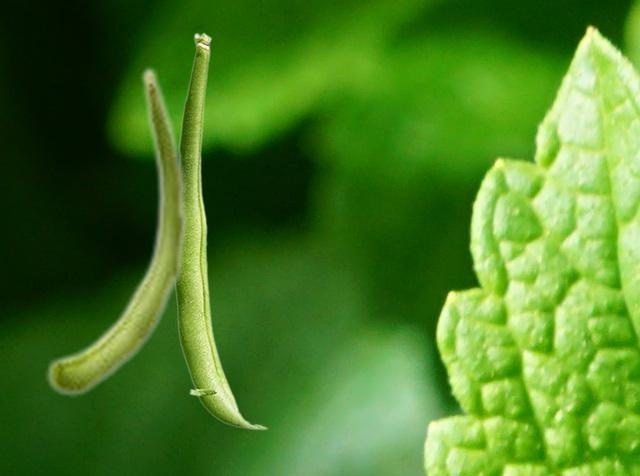french_bean: (45, 65, 188, 396), (174, 32, 268, 429)
